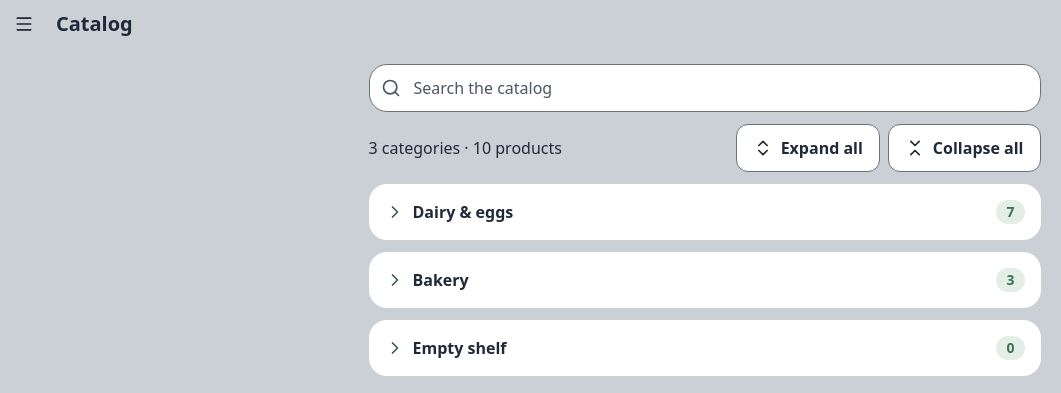
Scenario: Catalog search › PRD-2.10: ignores case and accents
Expected: the button "Bakery 3" is shown, [368, 252, 1040, 308]
Type "CREME" into the search field labelled "Search the catalog". click: (704,88)
box: [368, 64, 1040, 112]
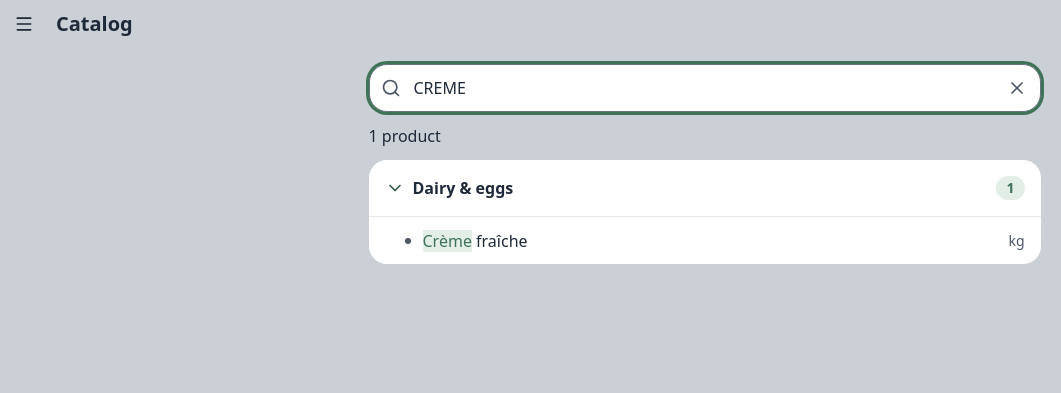
Now the text "fraîche" is shown, box [472, 230, 528, 252]
Now the text "Crème" is shown, box [422, 230, 472, 252]
